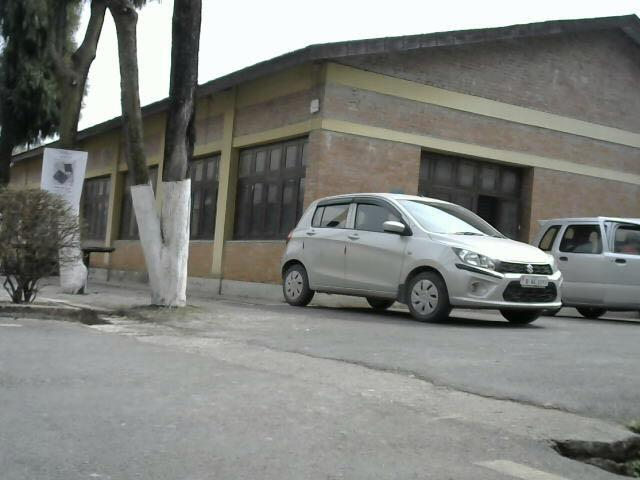Building: (184, 51, 640, 234)
Car: (272, 178, 640, 323)
Road: (0, 325, 640, 480)
Tree: (1, 1, 231, 315), (3, 181, 96, 311)
